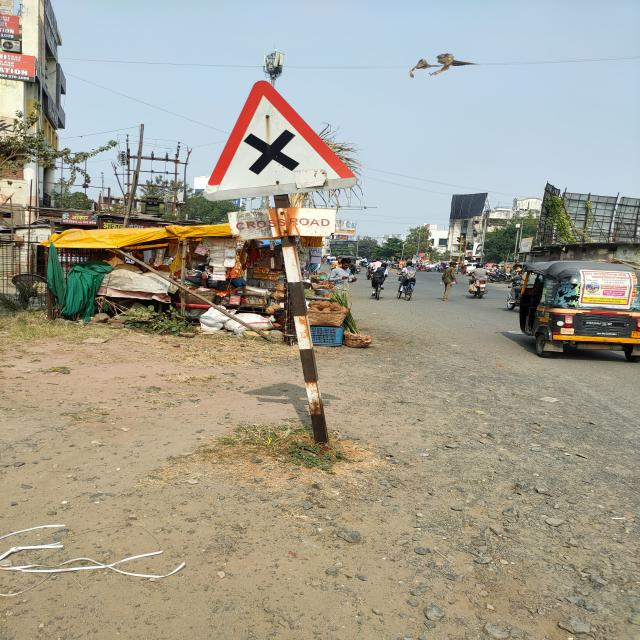CROSS_ROAD: (200, 80, 364, 203)
